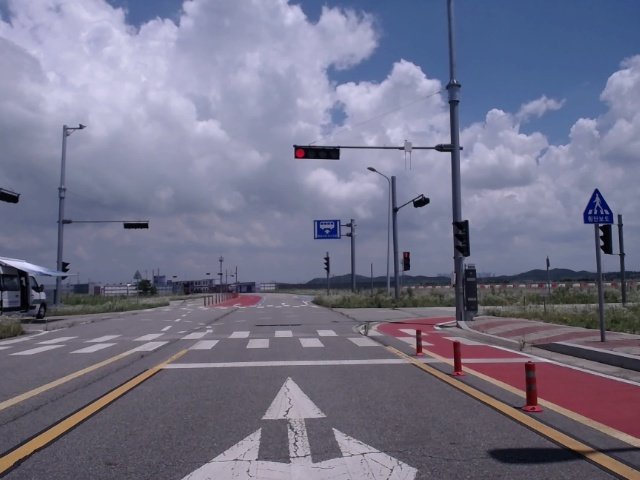red_4: (294, 147, 339, 160)
